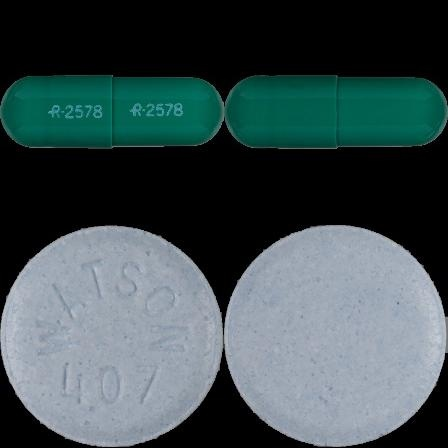63739-285: (0, 0, 224, 224)
